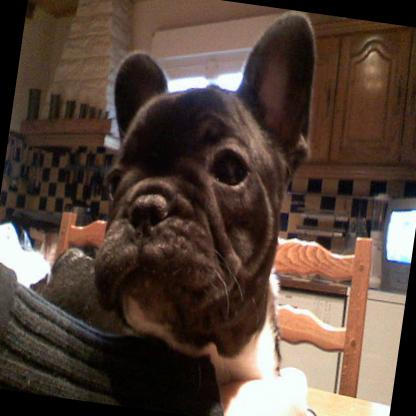French_bulldog: (0, 0, 330, 394)
